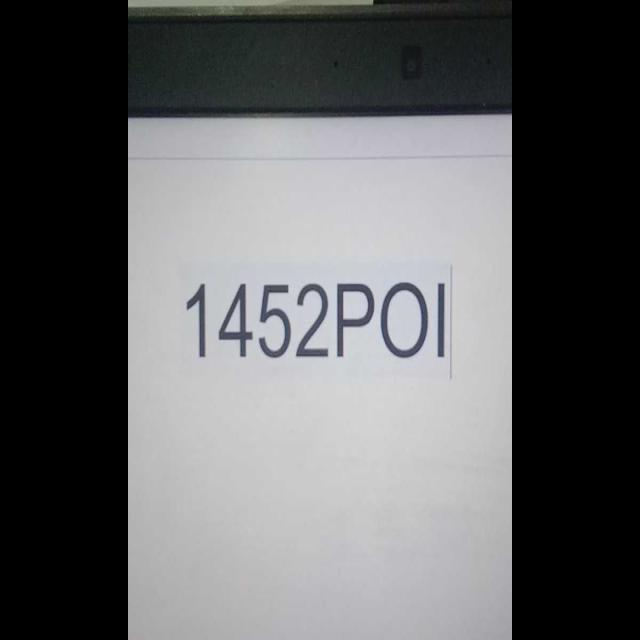license_plate: (182, 275, 448, 368), (334, 278, 376, 364)
